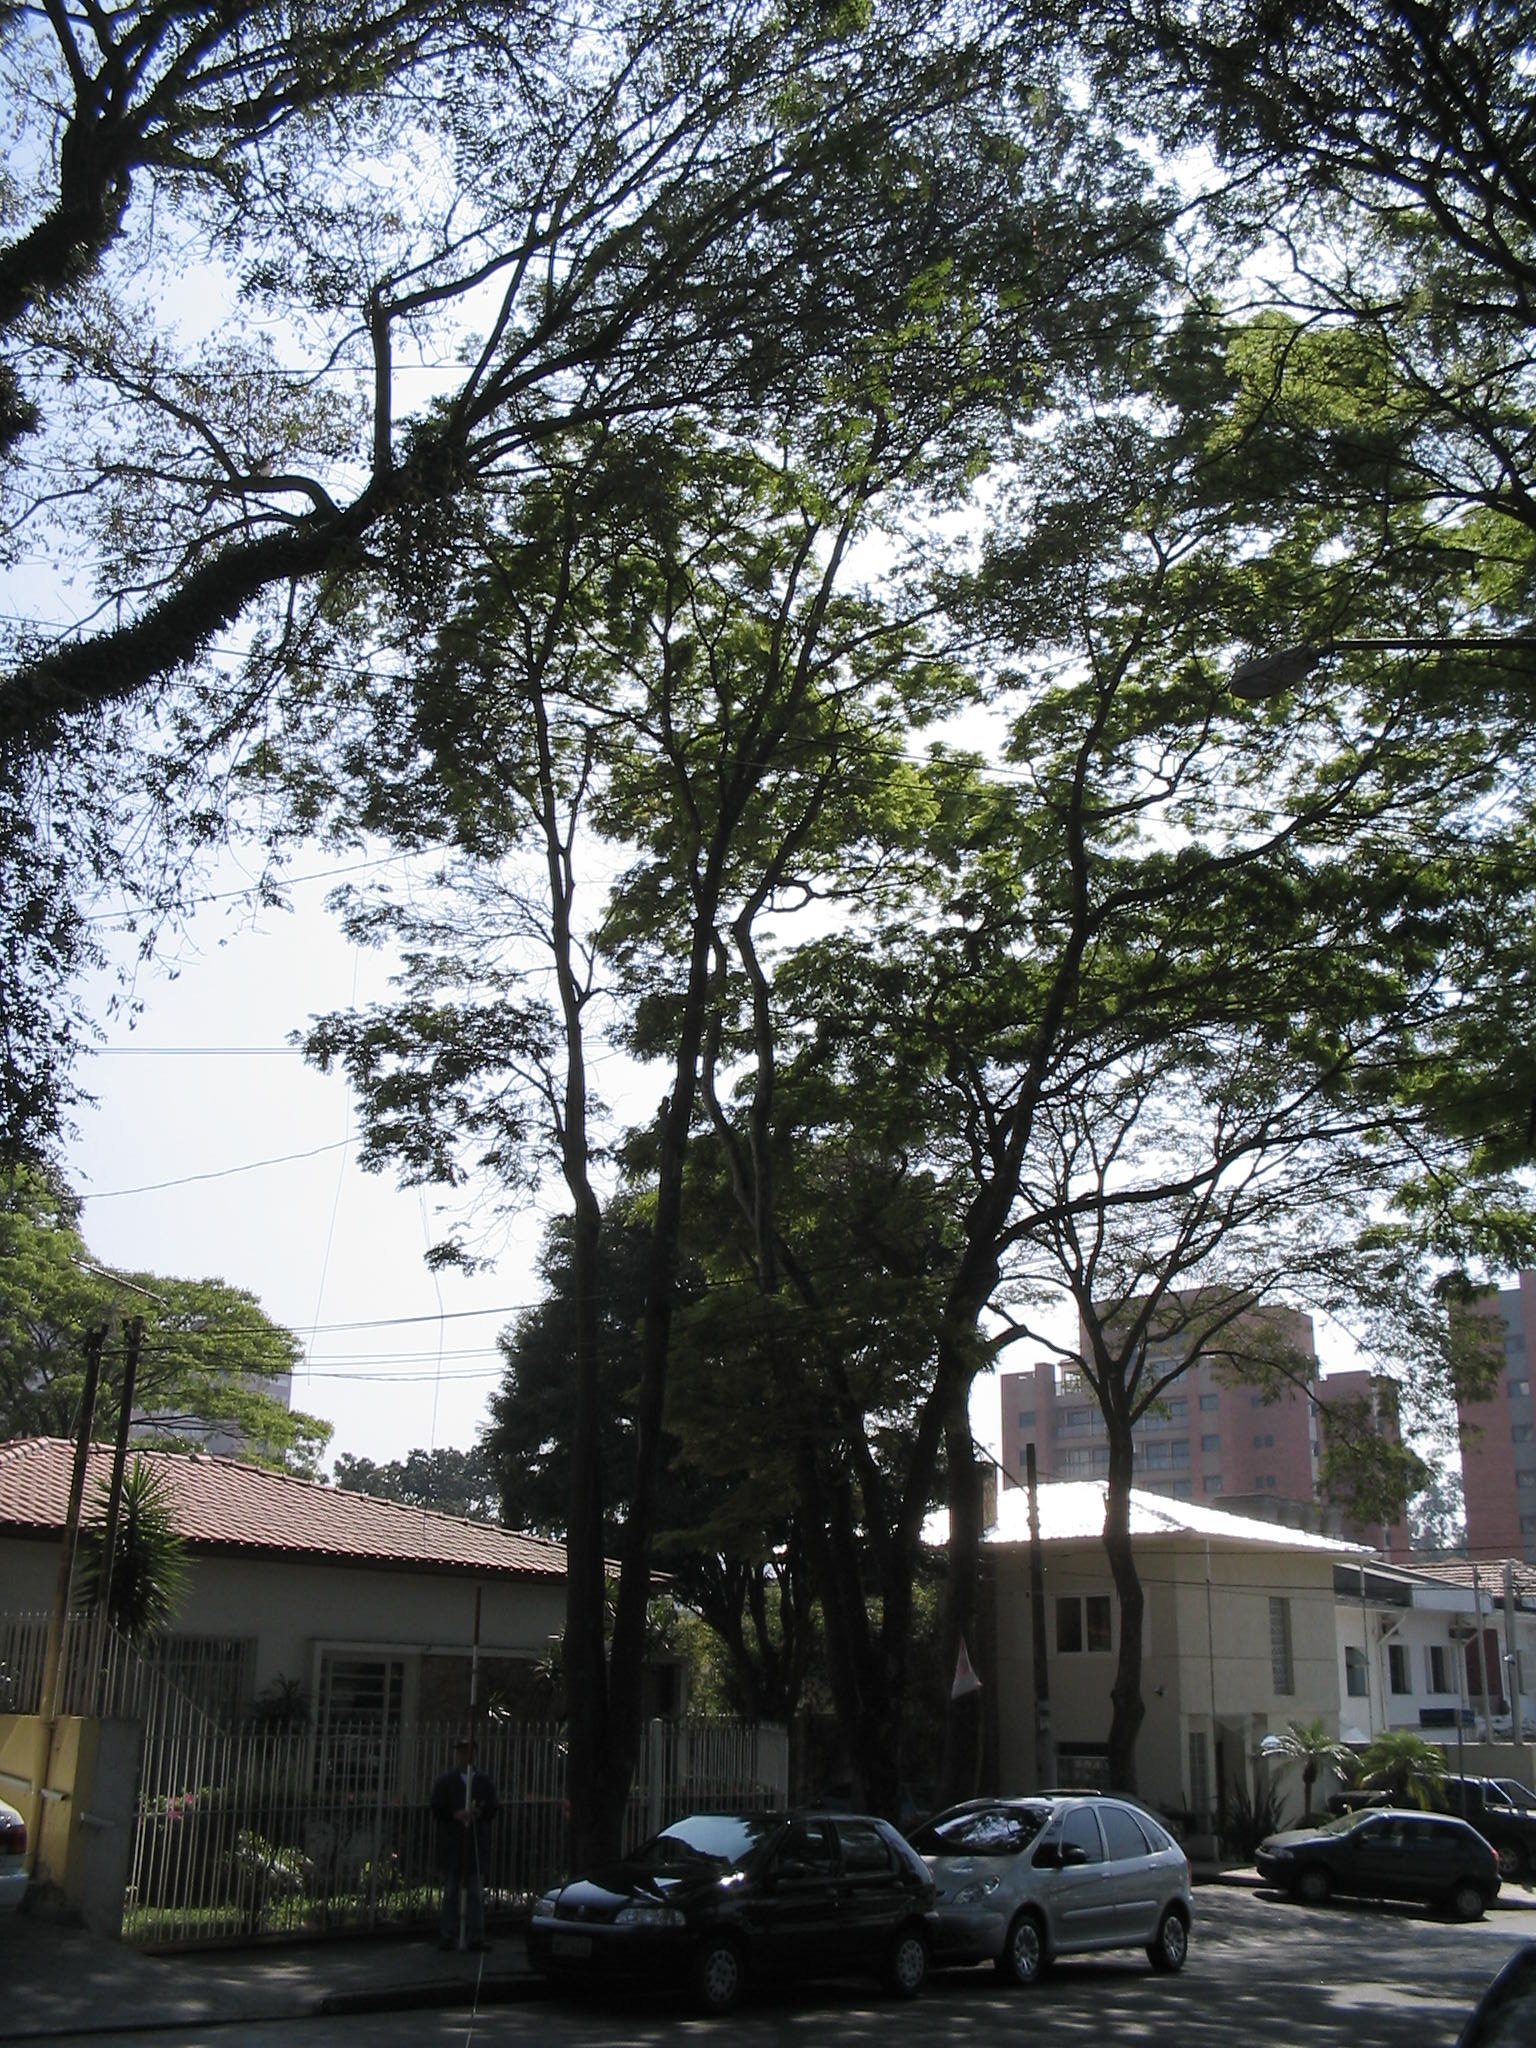stick: (423, 1584, 511, 1948)
